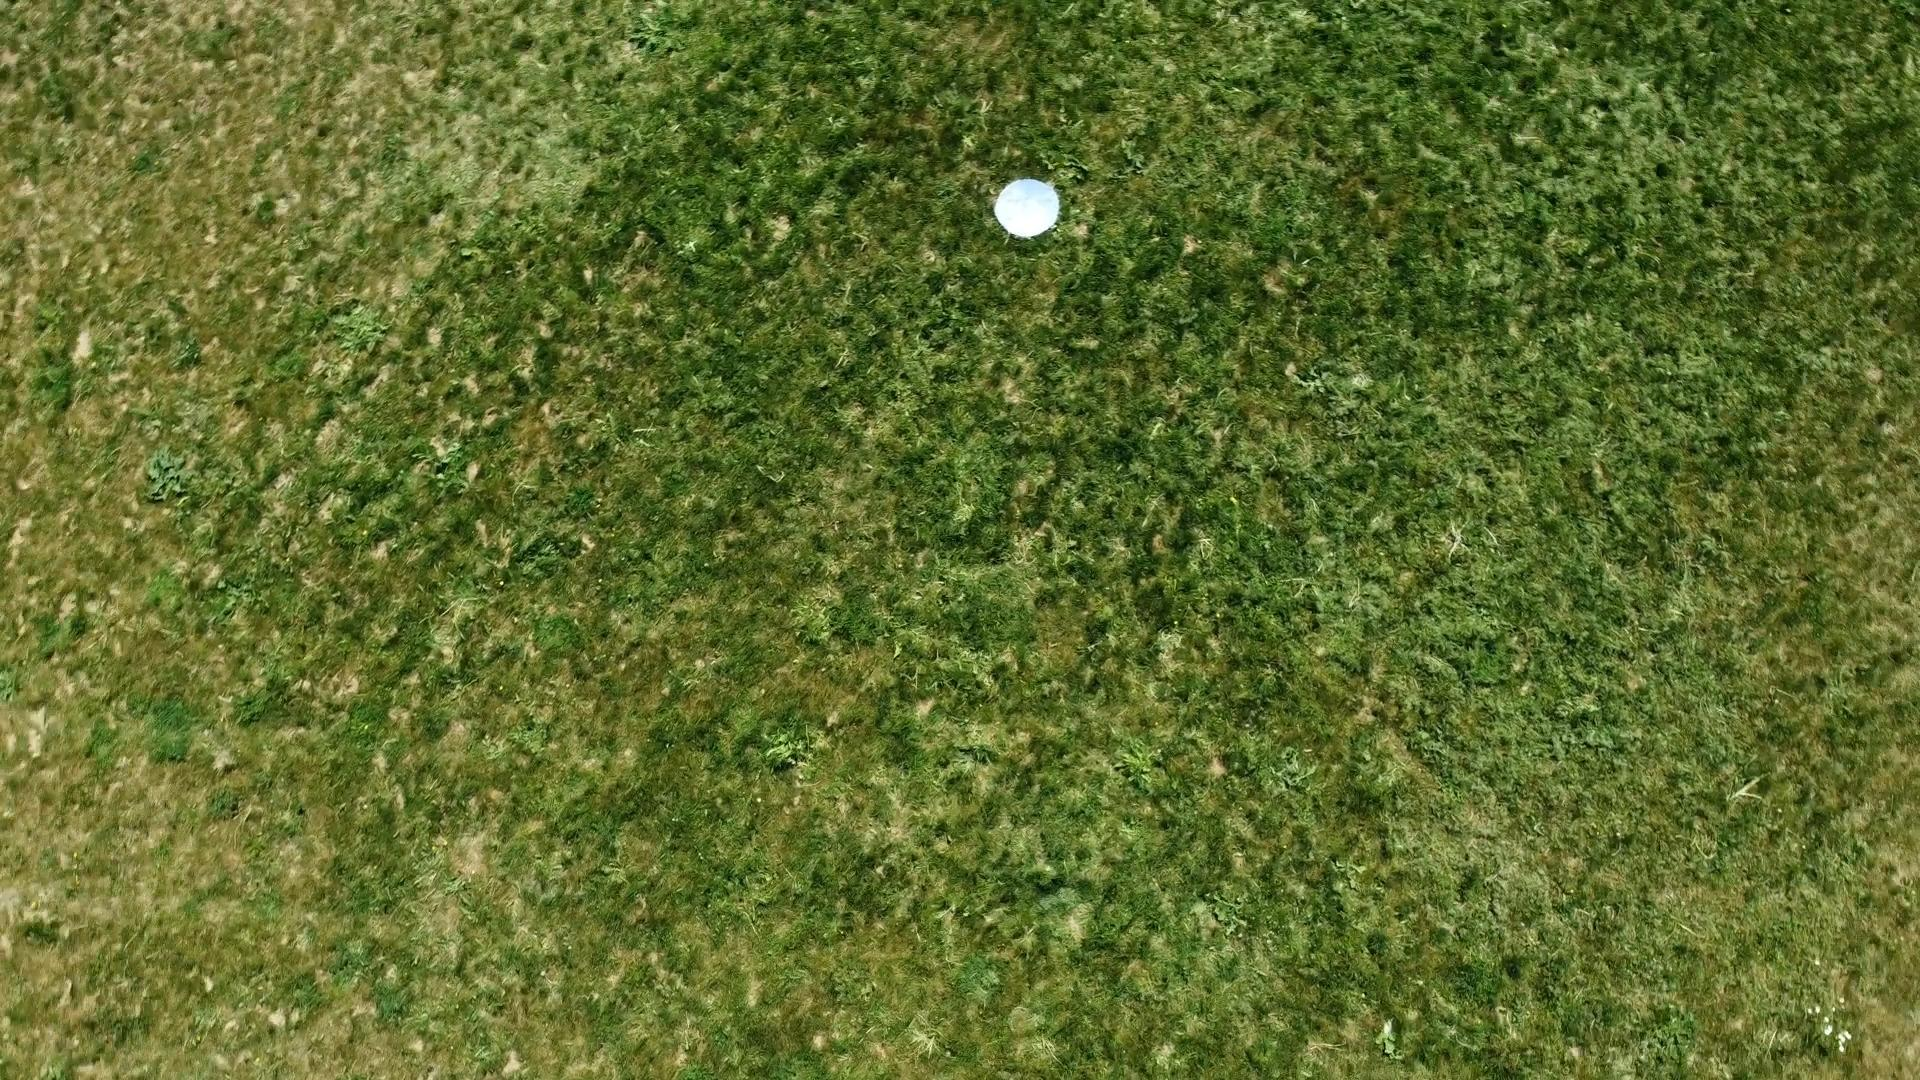Blue: (992, 177, 1063, 240)
